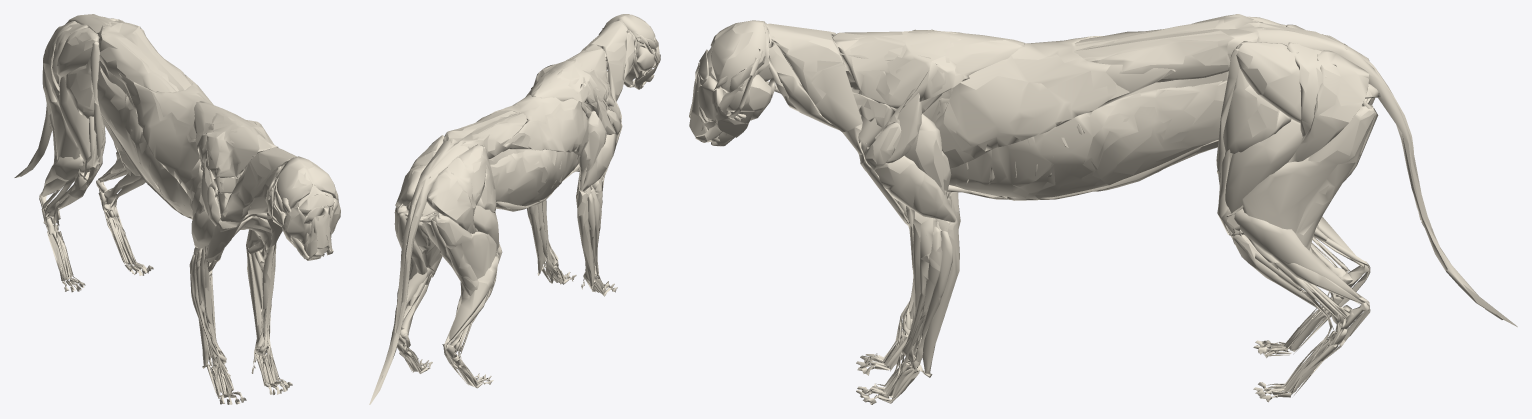
Rendered from feline-ecorche-westerly-quick-0dff1517b872.glb.
3 renders of one model, left to right at view 1: azimuth 30°, elevation 25°; view 2: azimuth 150°, elevation 25°; view 3: azimuth 270°, elevation 25°, orthographic. The views are drawn at different scales.
Visible parts, largest first — view 1: specimen; view 2: specimen; view 3: specimen.
Part boxes in pixels (x1=…): specimen: x1=14, y1=14, x2=340, y2=404; specimen: x1=369, y1=14, x2=660, y2=404; specimen: x1=689, y1=14, x2=1517, y2=404.
Bounding box in the file's own units: 0.3614 × 0.9671 × 2.
